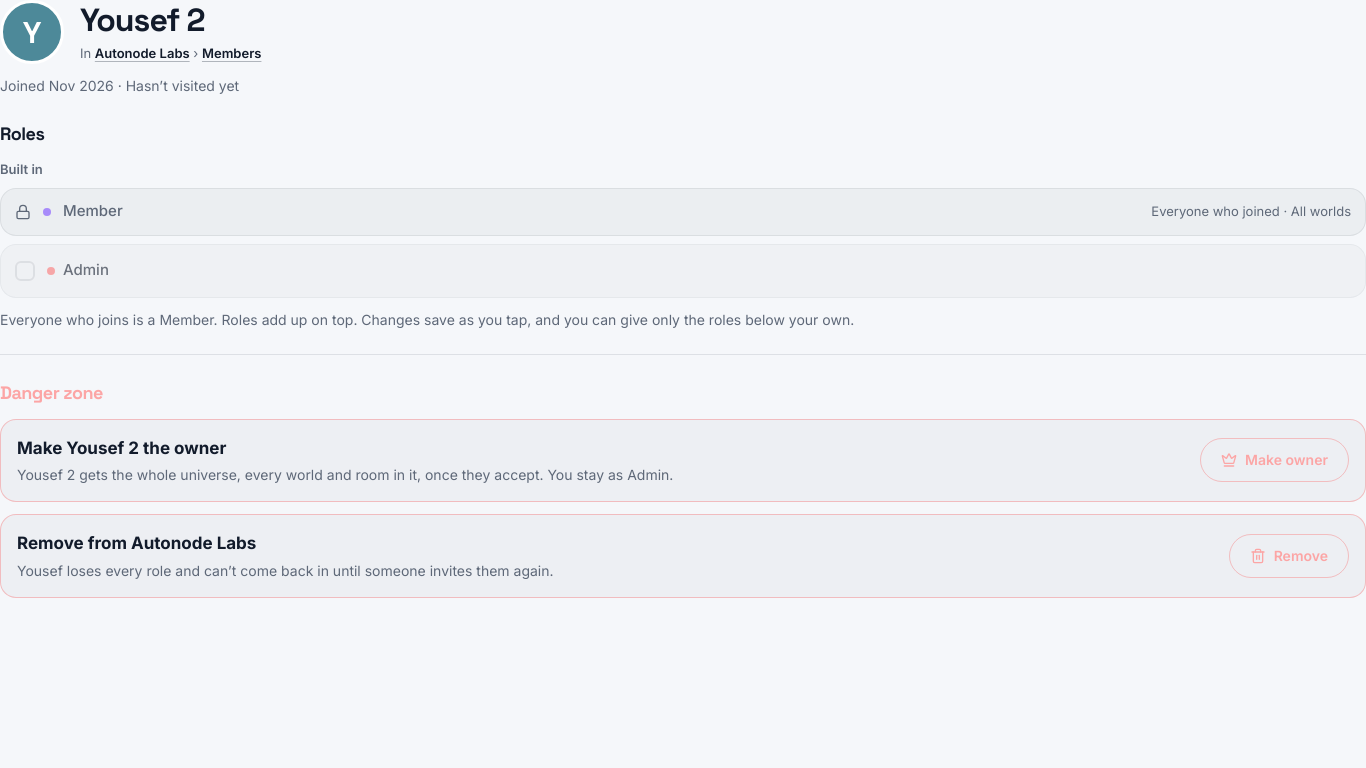
Test case: Make owner on a member’s page › asks for the universe’s name before it offers, and sends the offer for the whole universe
Click the button "Make owner" at (1275, 460), box [1200, 438, 1349, 482]
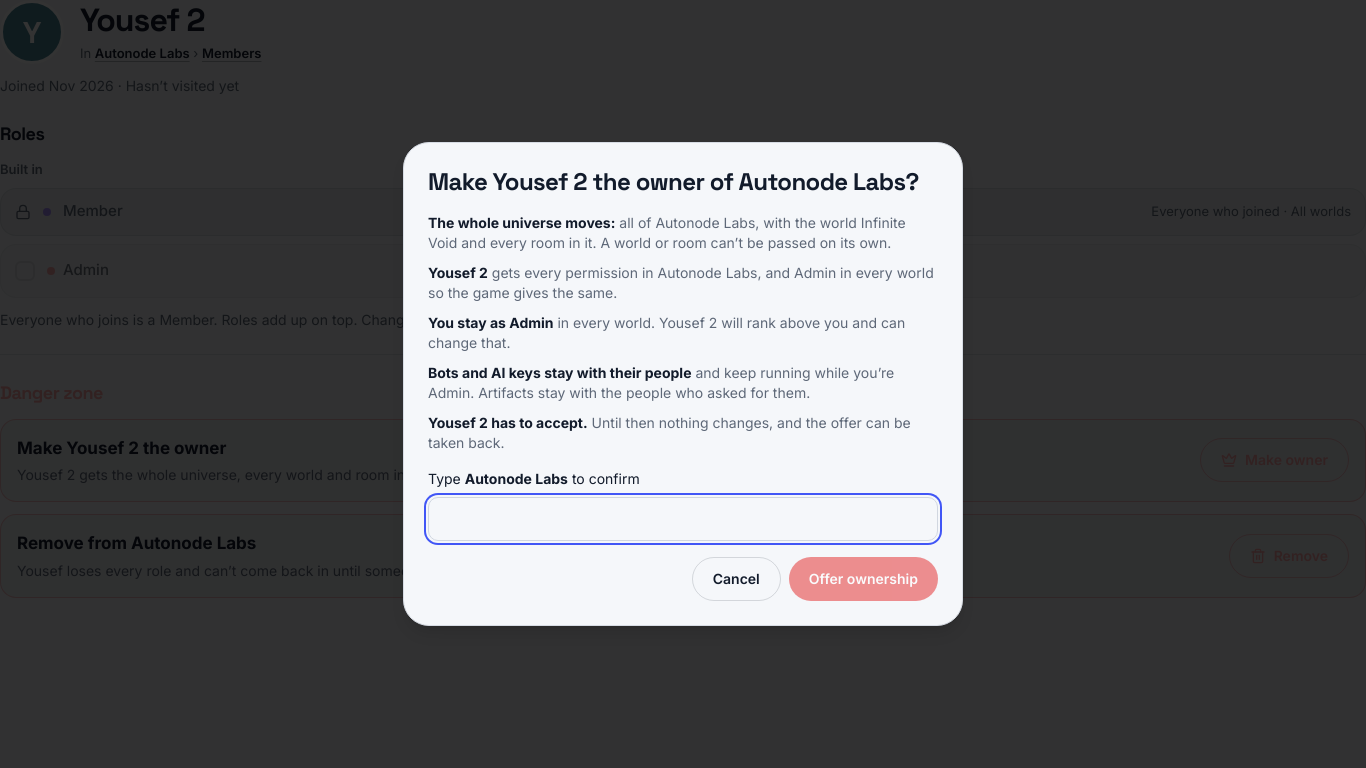
Expected: the heading "Make Yousef 2 the owner of Autonode Labs?" is shown, [428, 167, 938, 197]
Expected: the list item "all of Autonode Labs, with the world Infinite Void and every room in it. A world or room can’t be passed on its own." is shown, [428, 213, 938, 253]
Expected: the text "Yousef 2 has to accept." is shown, [428, 414, 588, 431]
Type "autonode labs" into the field at (683, 519), box [428, 497, 938, 541]
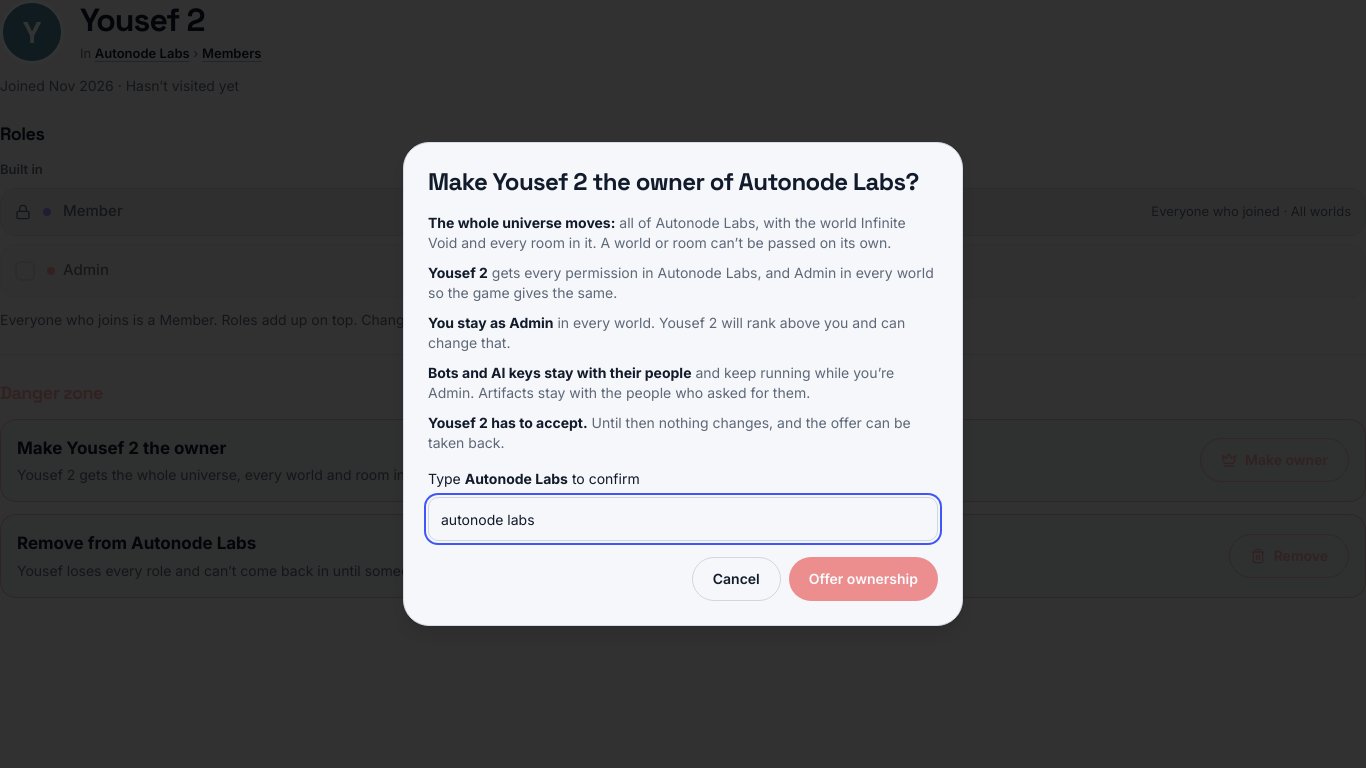
Expected: the button "Offer ownership" is disabled, [789, 557, 938, 601]
Replace the text in the field with "Autonode Labs" at (683, 519), box [428, 497, 938, 541]
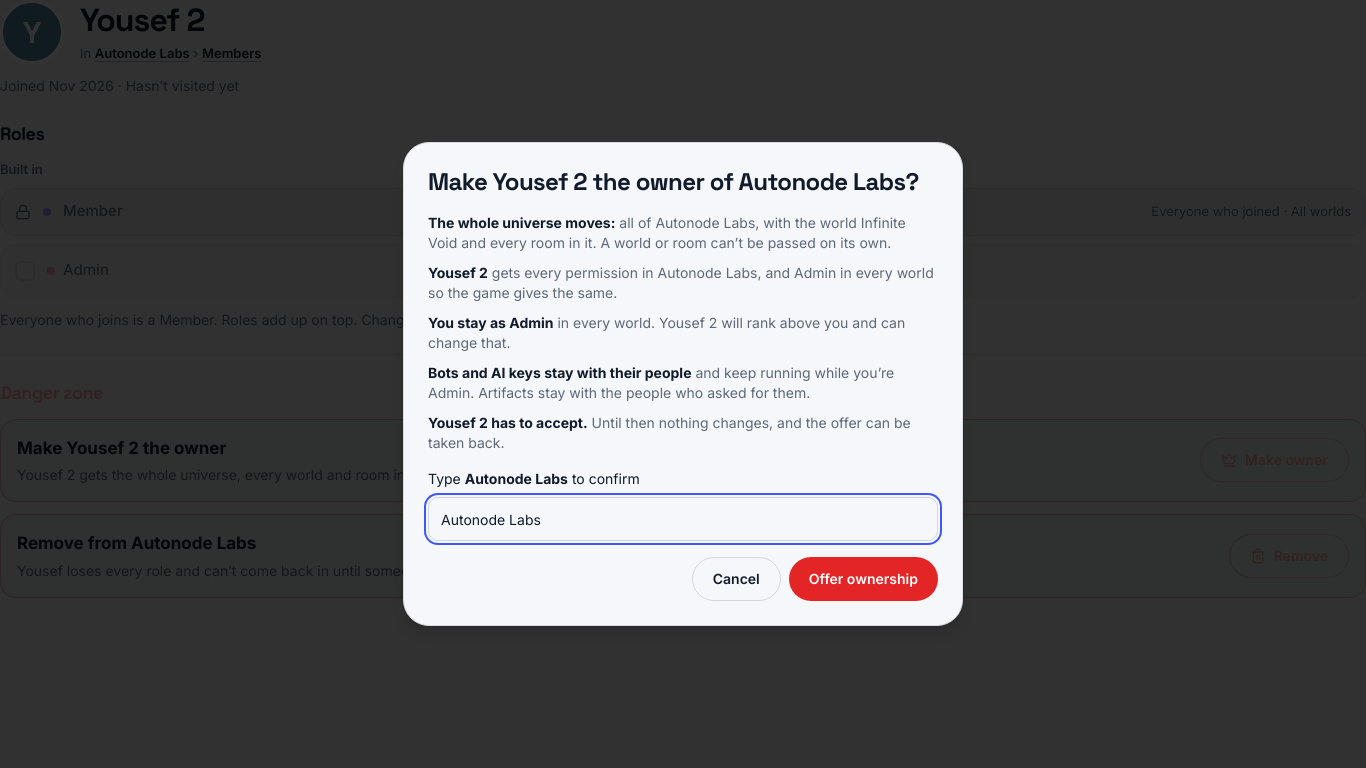
Expected: the button "Offer ownership" is enabled
Click the button "Offer ownership" at (863, 579), box [789, 557, 938, 601]
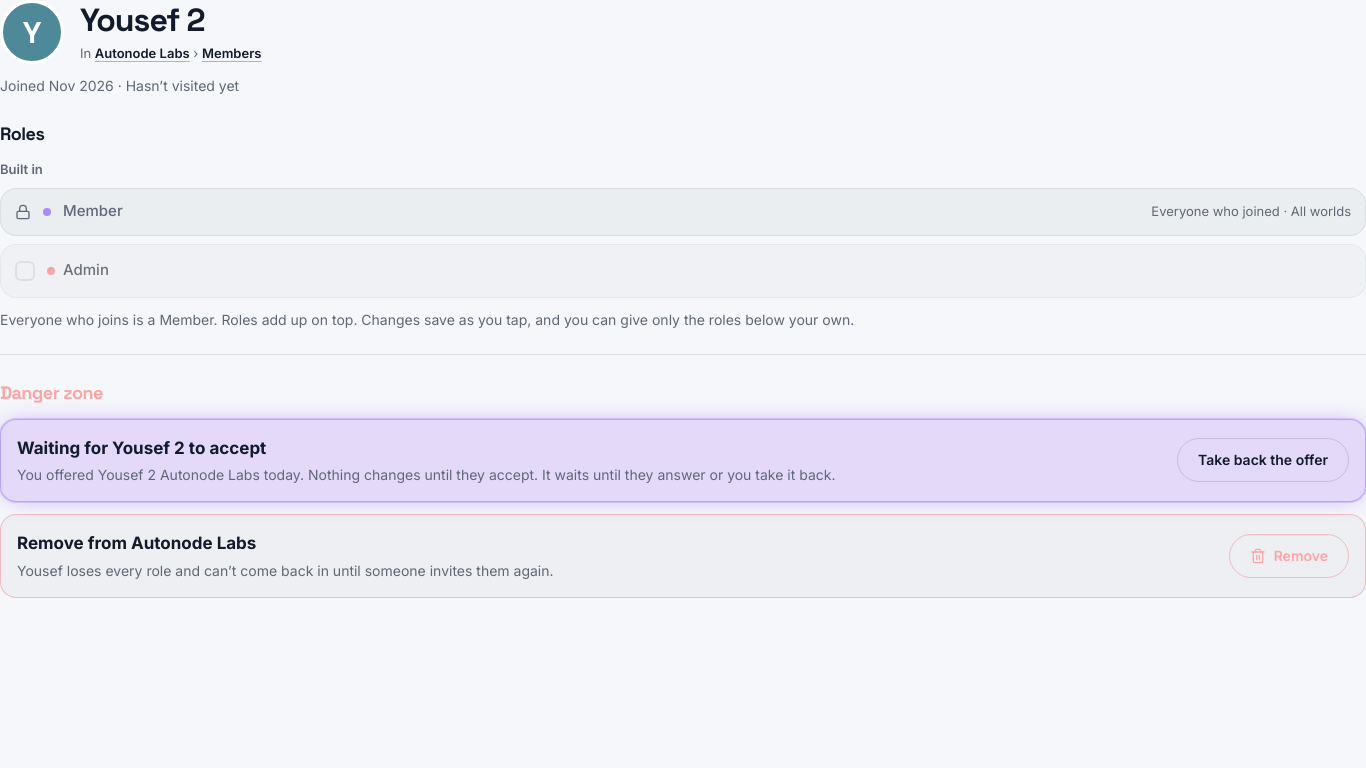
Expected: the dialog is gone
Expected: the text "Waiting for Yousef 2 to accept" is shown, [17, 438, 266, 458]
Expected: the text "Nothing changes until they accept. It waits until they answer or you take it back." is shown, [300, 466, 836, 483]
